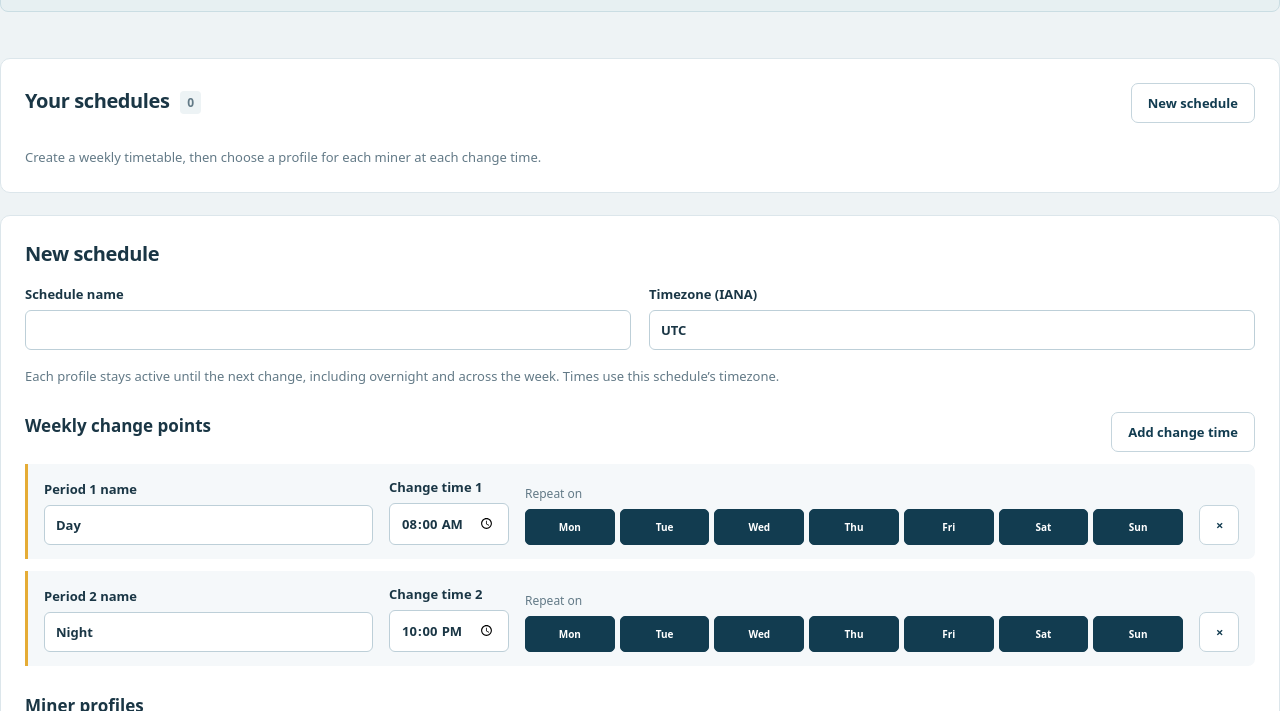
it: schedule editor › rejects overlapping times before saving and displays useful recovery guidance
The width and height of the screenshot is (1280, 711).
Expected: the text "Create a weekly timetable, then choose a profile for each miner at each change time." is shown, x1=25 y1=148 x2=541 y2=166
Step 1. Type "Home" into the field labelled "Schedule name" → {"x": 328, "y": 330}, box x1=25 y1=310 x2=631 y2=350
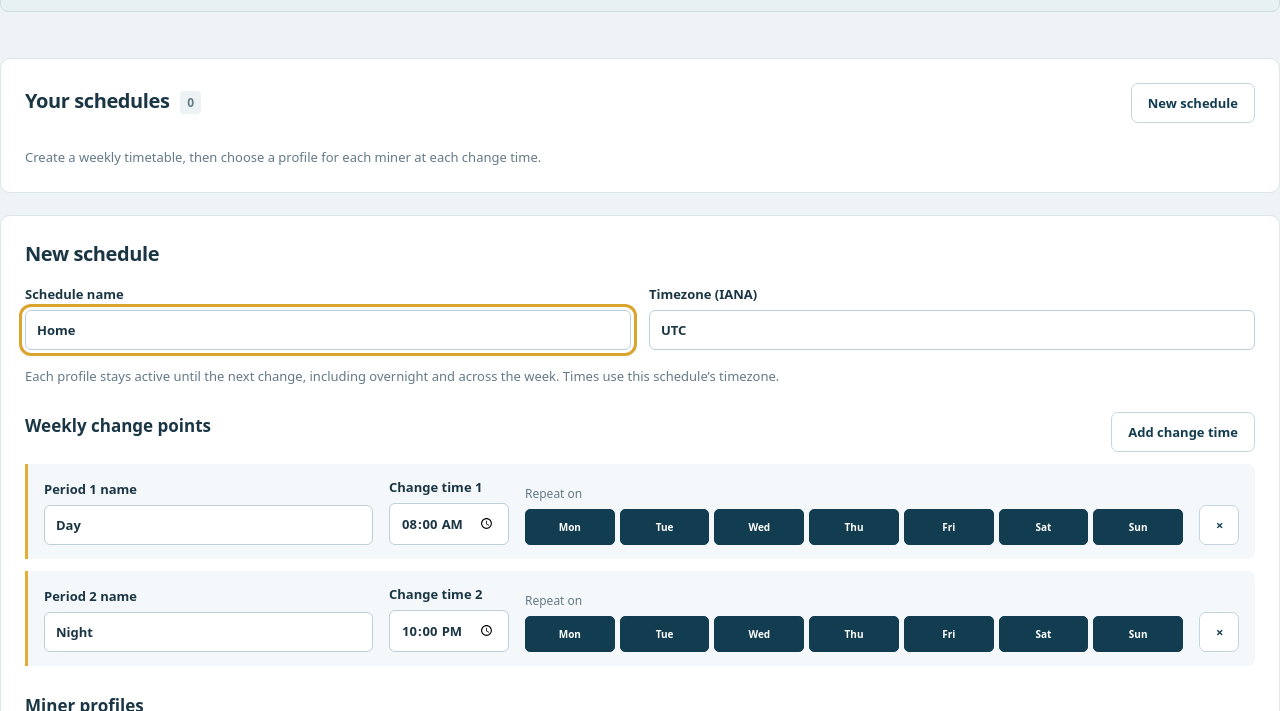
Step 2. Replace the text in the time field labelled "Change time 2" with "08:00" → {"x": 449, "y": 631}, box x1=389 y1=610 x2=509 y2=652
(page scrolled)
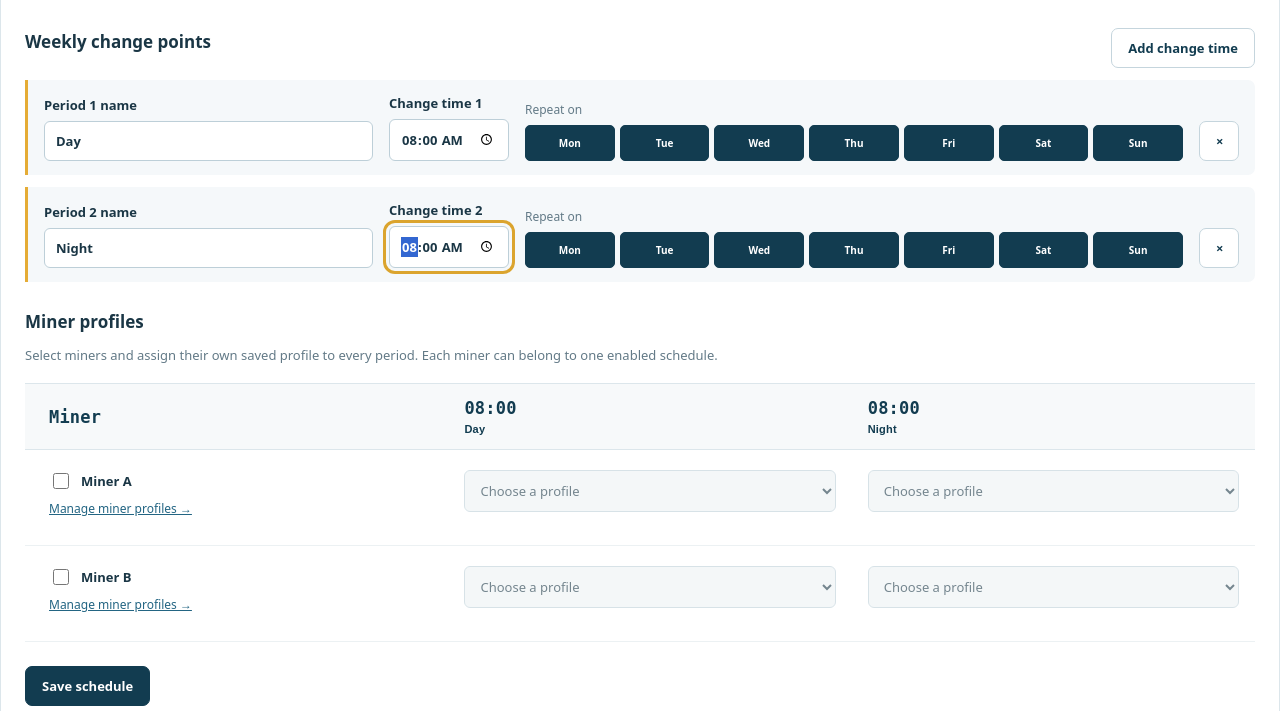
Step 3. Click the button "Save schedule" → {"x": 88, "y": 686}, box x1=25 y1=666 x2=150 y2=706
(page scrolled)
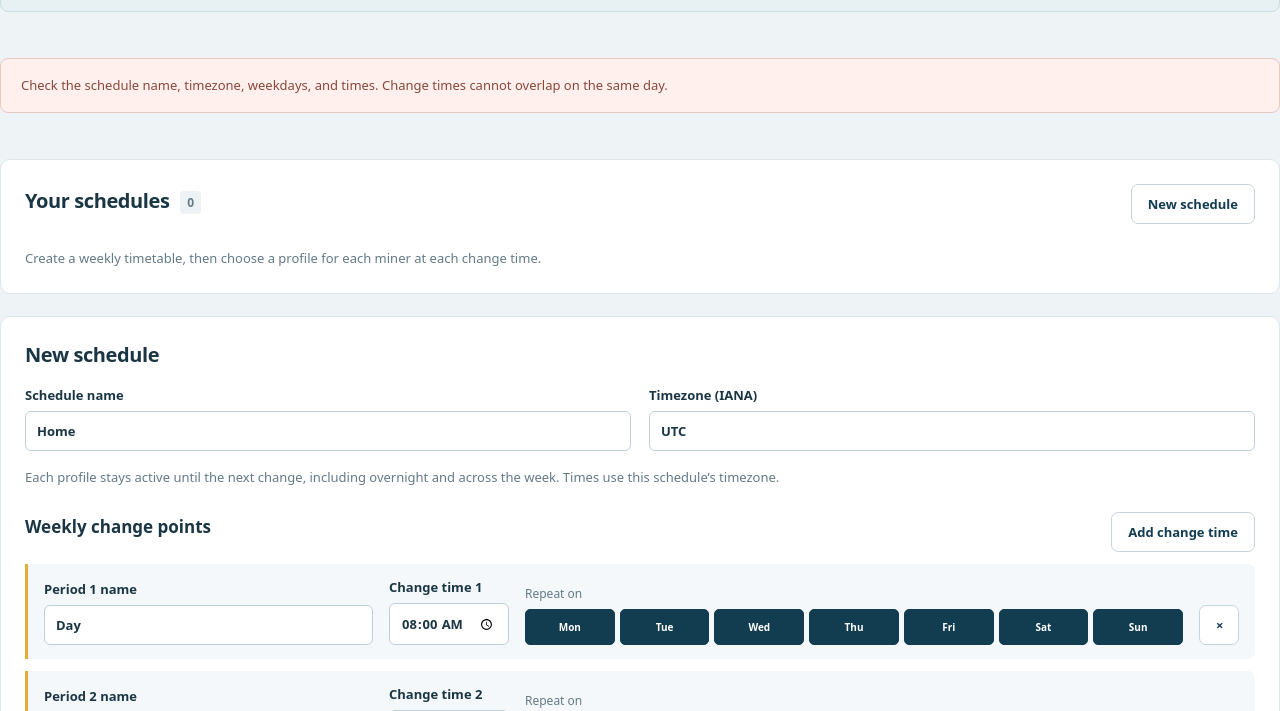
Now the message shows "Change times cannot overlap", box x1=21 y1=76 x2=668 y2=94
